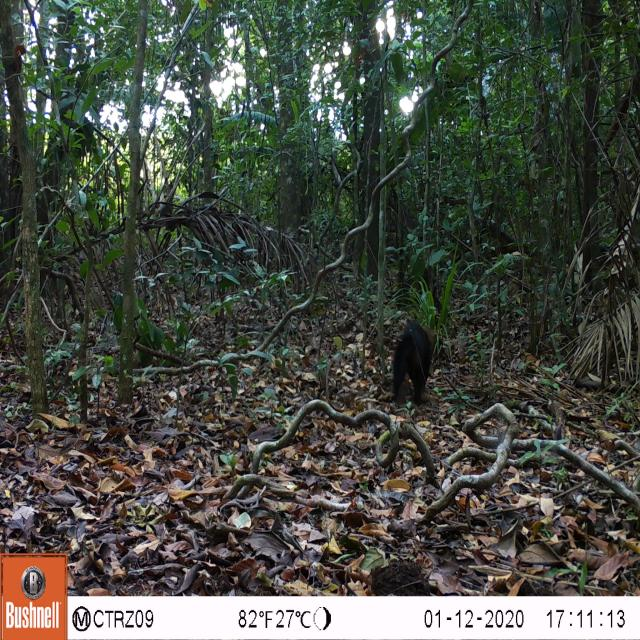Tayra: (384, 305, 440, 409)
